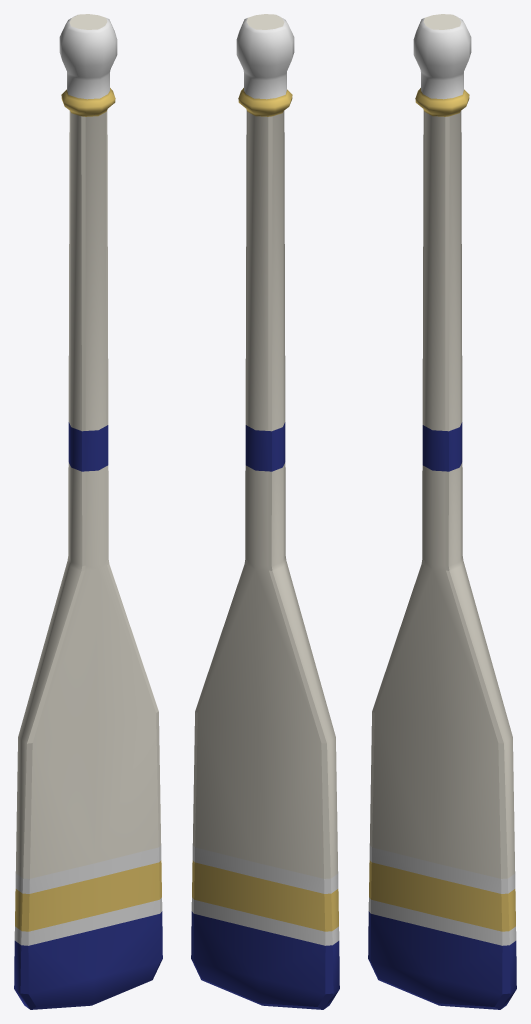
Rendered from Paddle.fbx.
3 renders of one model, left to right at view 1: azimuth 30°, elevation 25°; view 2: azimuth 150°, elevation 25°; view 3: azimuth 330°, elevation 25°, orthographic.
Visible parts, largest first — view 1: Cube.001; view 2: Cube.001; view 3: Cube.001.
Boxes of the visible parts, <box> form: Cube.001: <box>14,14,162,1009</box>; Cube.001: <box>191,14,339,1009</box>; Cube.001: <box>368,14,516,1009</box>.
Size of the model in its own units: 28 by 184 by 10.35.
